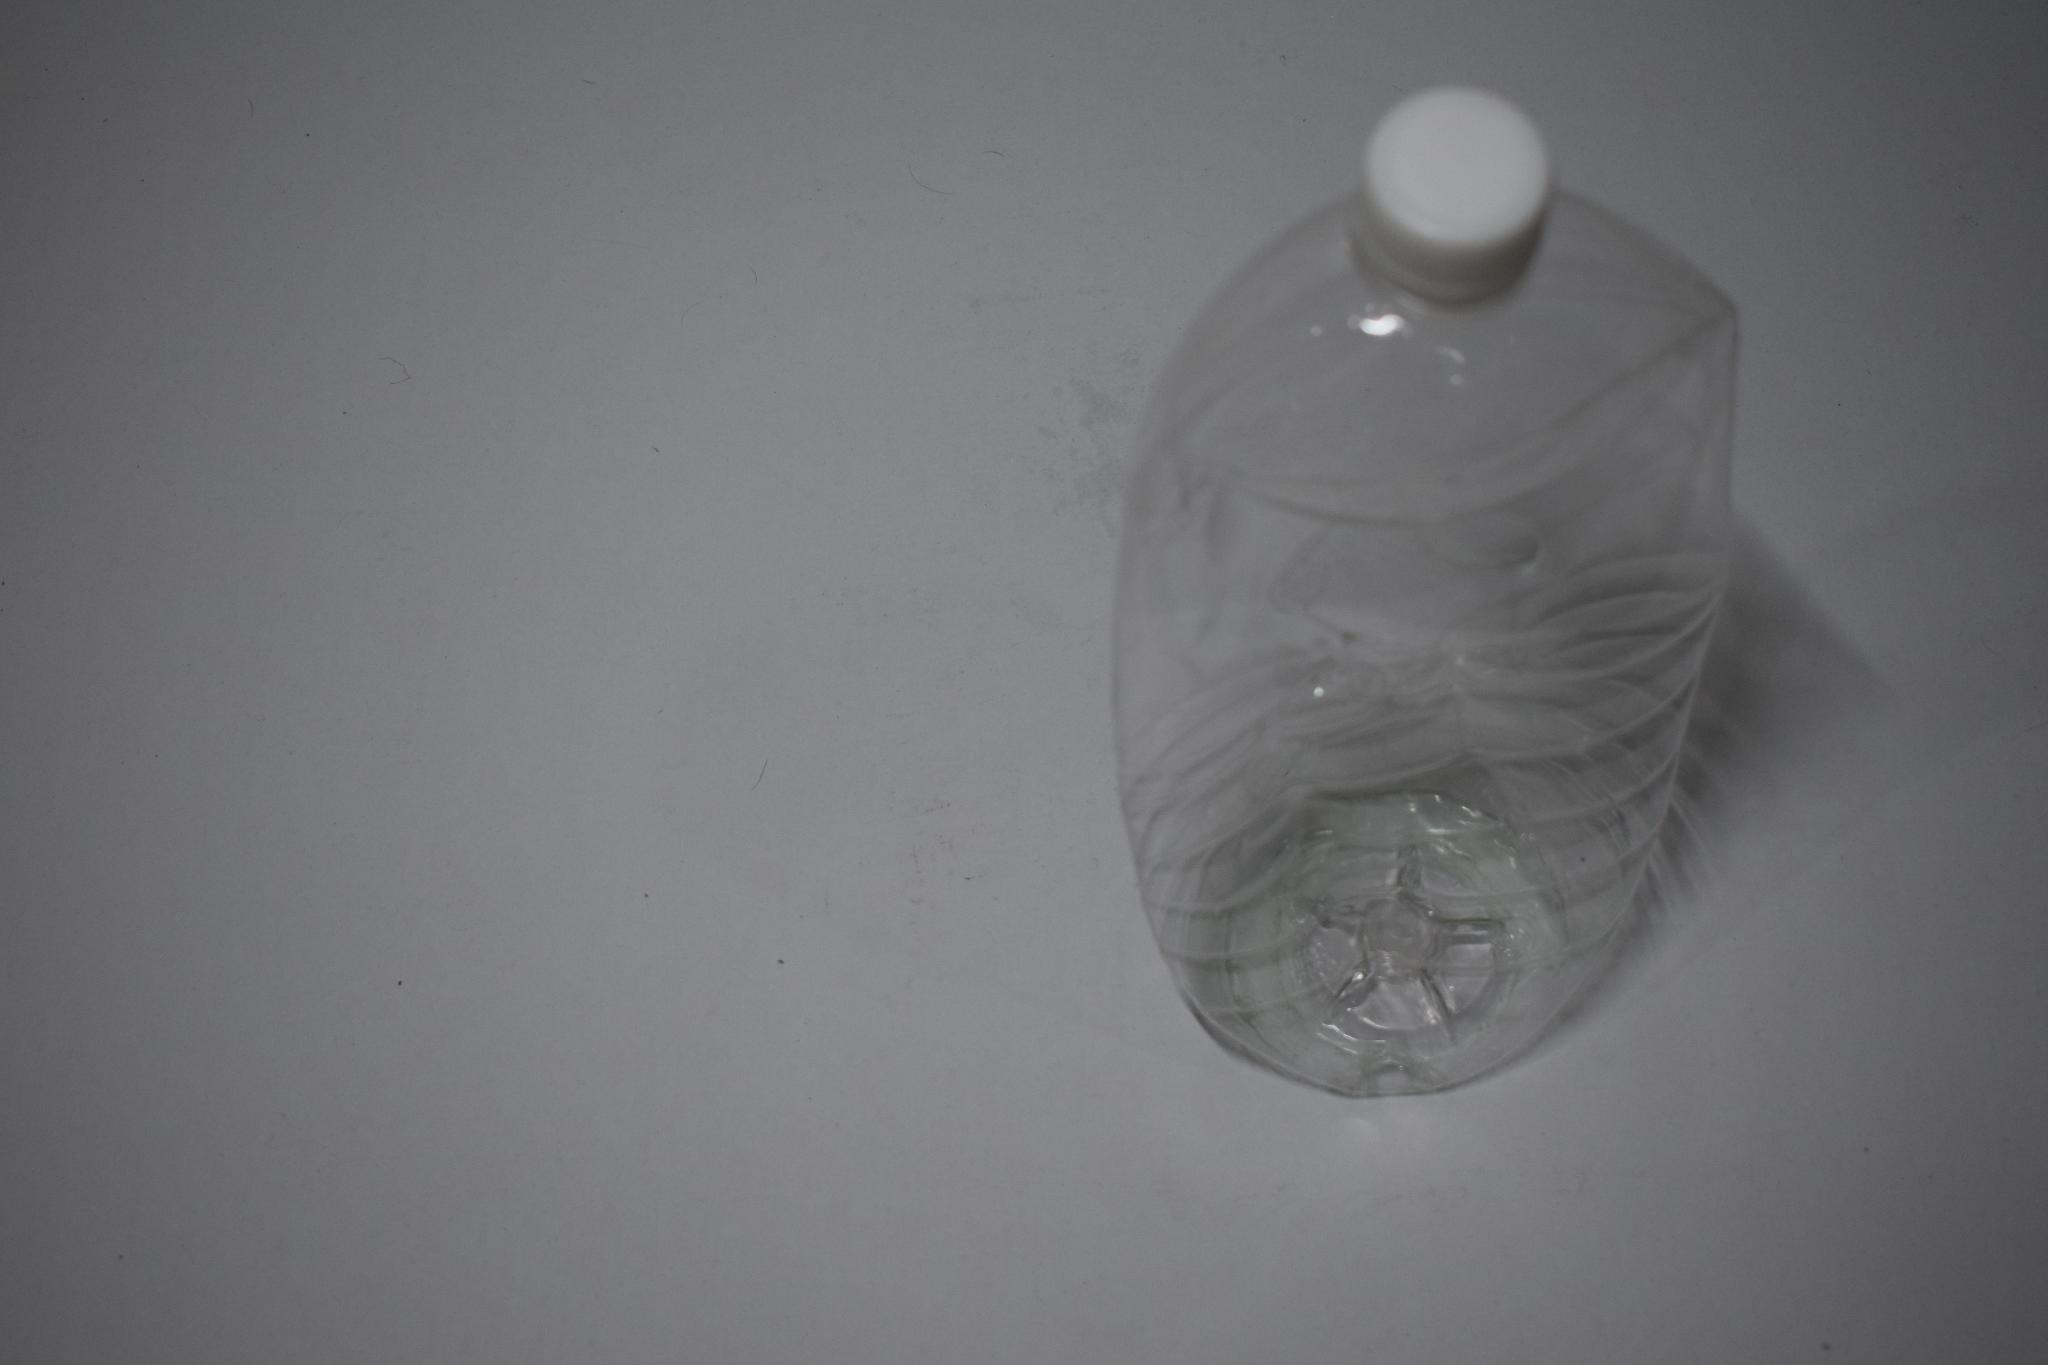bottle: (1103, 110, 1751, 1064)
